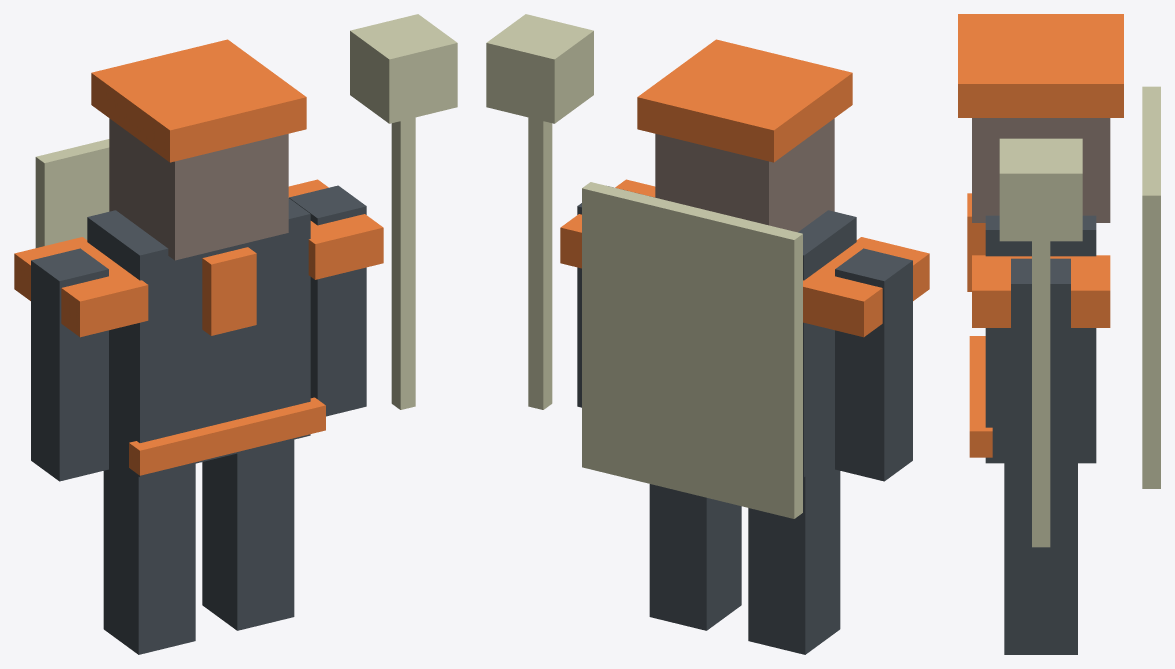
Rendered from 20_nix_ironwake_medic_of_outer.glb.
3 renders of one model, left to right at view 1: azimuth 30°, elevation 25°; view 2: azimuth 150°, elevation 25°; view 3: azimuth 270°, elevation 25°, orthographic. The views are drawn at different scales.
Parts seen in each view (by area): view 1: Nix Ironwake, Medic of Outer; view 2: Nix Ironwake, Medic of Outer; view 3: Nix Ironwake, Medic of Outer.
Part boxes in pixels (left/top/right/bottom): Nix Ironwake, Medic of Outer: left=14, top=14, right=457, bottom=654; Nix Ironwake, Medic of Outer: left=486, top=14, right=929, bottom=654; Nix Ironwake, Medic of Outer: left=958, top=14, right=1160, bottom=654.
Size of the model in its own units: 1.11 by 1.45 by 0.472.
